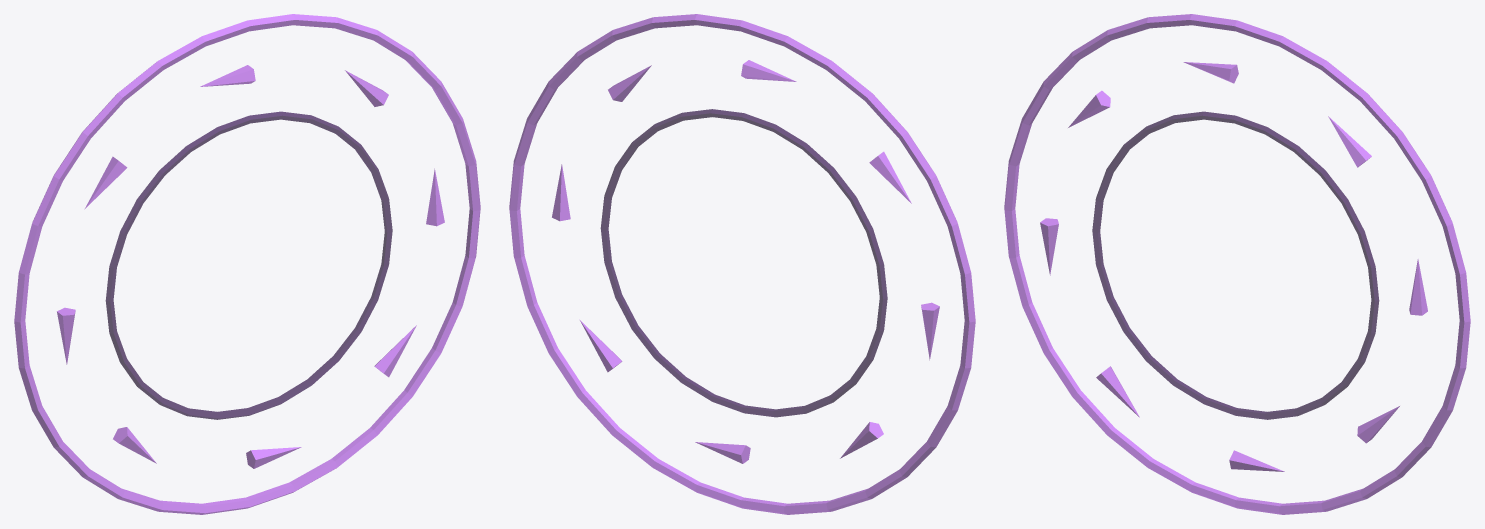
File: vfx_gravity_pull_ring.glb
3 renders of one model, left to right at view 1: azimuth 30°, elevation 25°; view 2: azimuth 150°, elevation 25°; view 3: azimuth 330°, elevation 25°, orthographic.
Visible parts, largest first — view 1: outer, inner, arrow_6, arrow_2, arrow_0, arrow_4, arrow_3, arrow_7, arrow_1, arrow_5; view 2: outer, inner, arrow_2, arrow_6, arrow_0, arrow_4, arrow_7, arrow_3, arrow_5, arrow_1; view 3: outer, inner, arrow_4, arrow_0, arrow_1, arrow_2, arrow_5, arrow_6, arrow_7, arrow_3.
Boxes of the visible parts, box(x1,y1,x2,y2) form: outer: box(14, 14, 480, 514); inner: box(105, 111, 392, 419); arrow_6: box(246, 447, 301, 468); arrow_2: box(200, 65, 255, 86); arrow_0: box(426, 168, 444, 226); arrow_4: box(57, 307, 75, 364); arrow_3: box(84, 156, 127, 209); arrow_7: box(374, 325, 416, 377); arrow_1: box(345, 70, 388, 106); arrow_5: box(113, 427, 156, 463); outer: box(509, 14, 975, 514); inner: box(600, 109, 887, 417); arrow_2: box(741, 60, 796, 81); arrow_6: box(695, 442, 750, 463); arrow_0: box(552, 164, 570, 221); arrow_4: box(921, 302, 939, 360); arrow_7: box(579, 319, 622, 372); arrow_3: box(869, 151, 911, 203); arrow_5: box(840, 422, 883, 458); arrow_1: box(608, 65, 651, 101); outer: box(1004, 14, 1470, 514); inner: box(1092, 111, 1379, 419); arrow_4: box(1040, 218, 1058, 275); arrow_0: box(1409, 259, 1427, 315); arrow_1: box(1328, 116, 1371, 167); arrow_2: box(1183, 62, 1238, 83); arrow_5: box(1096, 366, 1139, 417); arrow_6: box(1229, 450, 1284, 471); arrow_7: box(1357, 406, 1399, 443); arrow_3: box(1068, 90, 1110, 127).
Size of the model in its own units: 3.17 by 3.17 by 0.1304.
